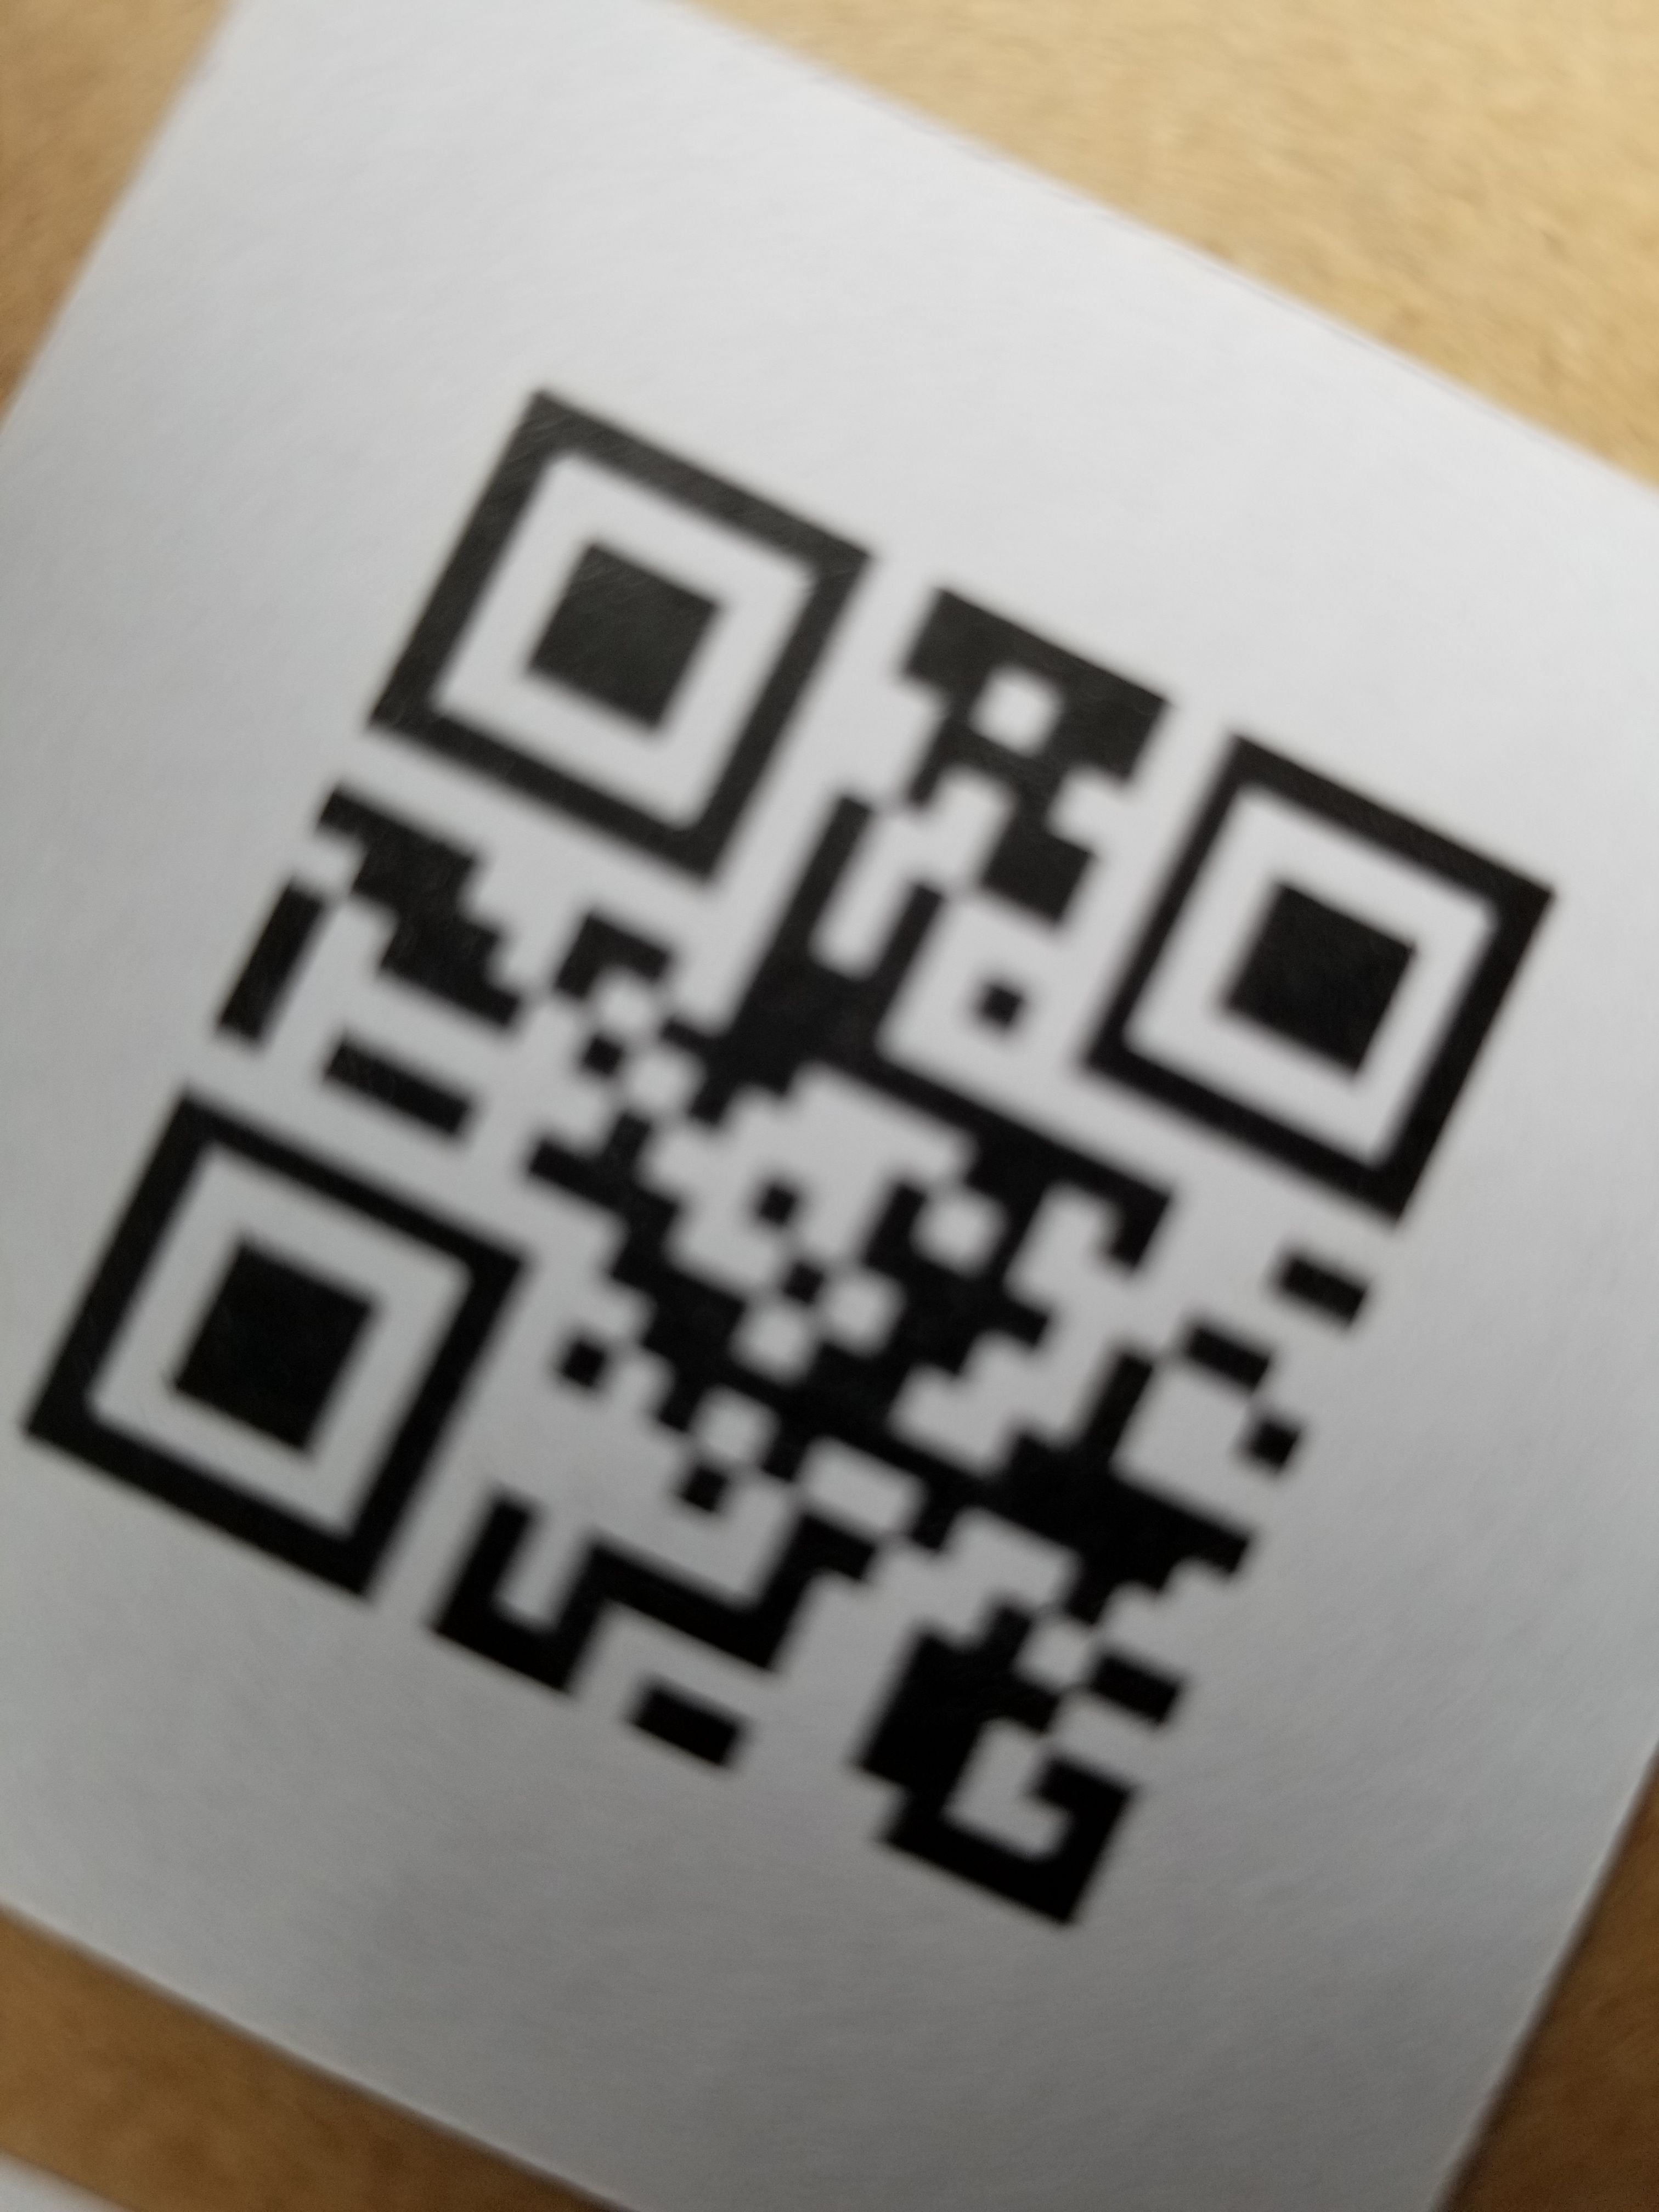QR_CODE: (5, 214, 1612, 2008)
